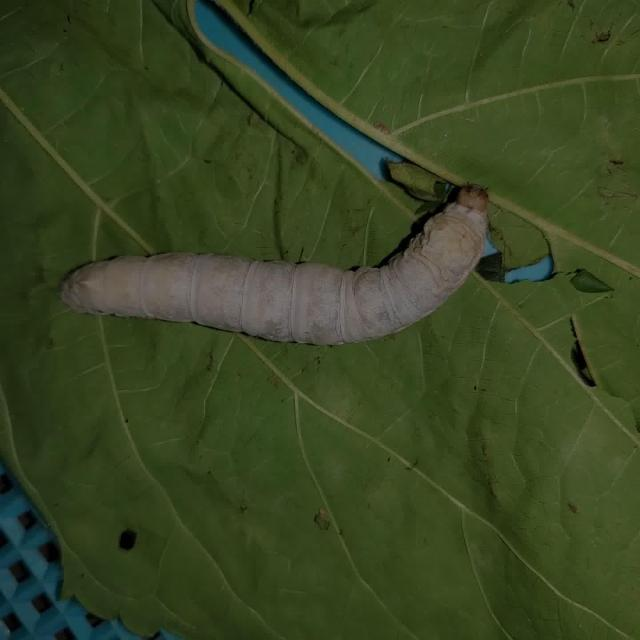Grasserie: (39, 166, 579, 397)
